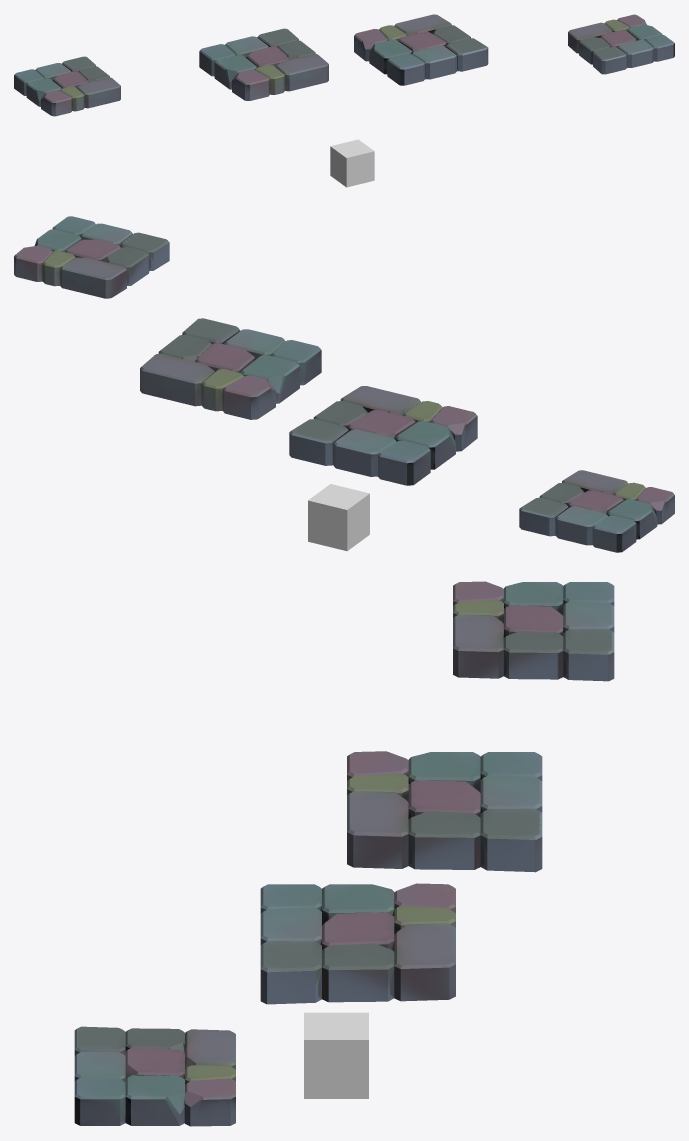
The model's file is battlescence-1-floor010.fbx.
3 views of the same model, one above another, from view 1: azimuth 30°, elevation 25°; view 2: azimuth 150°, elevation 25°; view 3: azimuth 270°, elevation 25° (orthographic). The views are drawn at different scales.
Visible parts, largest first — view 1: Cube.032, Cube.052, Cube.040, Cube.025, battlescence-1-floor010; view 2: Cube.052, Cube.032, Cube.040, Cube.025, battlescence-1-floor010; view 3: Cube.032, Cube.052, Cube.025, Cube.040, battlescence-1-floor010.
Part boxes in pixels (x1=…): Cube.032: x1=354, y1=14, x2=488, y2=85; Cube.052: x1=199, y1=28, x2=328, y2=100; Cube.040: x1=14, y1=56, x2=120, y2=116; Cube.025: x1=568, y1=14, x2=674, y2=74; battlescence-1-floor010: x1=330, y1=139, x2=374, y2=187; Cube.052: x1=289, y1=386, x2=477, y2=485; Cube.032: x1=140, y1=318, x2=321, y2=419; Cube.040: x1=519, y1=470, x2=674, y2=552; Cube.025: x1=14, y1=216, x2=169, y2=298; battlescence-1-floor010: x1=308, y1=484, x2=369, y2=551; Cube.032: x1=260, y1=883, x2=455, y2=1004; Cube.052: x1=347, y1=751, x2=542, y2=872; Cube.025: x1=74, y1=1026, x2=235, y2=1126; Cube.040: x1=453, y1=581, x2=614, y2=681; battlescence-1-floor010: x1=304, y1=1012, x2=368, y2=1098.
Size of the model in its own units: 2171 by 470 by 957.
